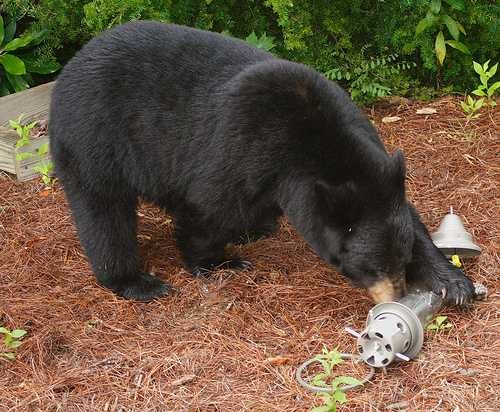bear: (305, 177, 433, 305)
